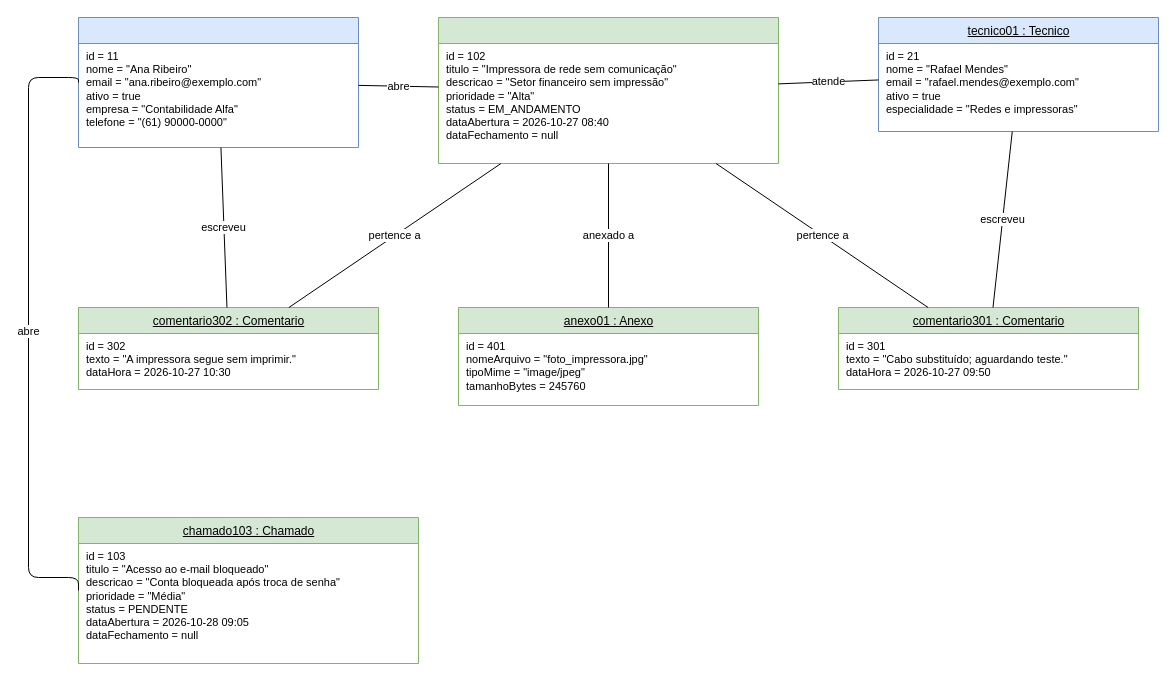
Image size: 1176x684. Some labels were removed from this diagram. Each missing label, with the box of its shape:
chamado102 : Chamado: (438, 16, 778, 164)
cliente01 : Cliente: (78, 16, 358, 148)
